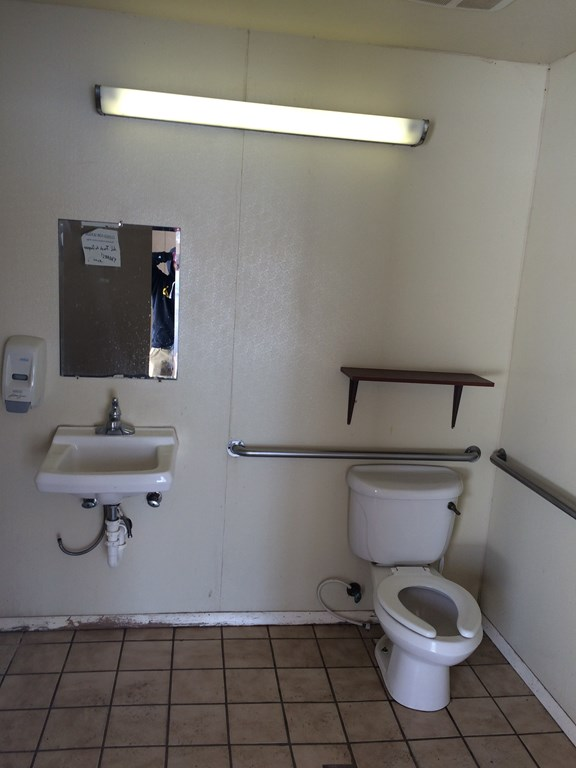dispenser: (1, 335, 46, 413)
faucet: (95, 397, 135, 435)
restroom_assist_bar: (490, 448, 576, 521), (226, 440, 481, 463)
sink: (36, 426, 179, 505)
toilet: (369, 563, 483, 711)
toilet_handle: (447, 502, 461, 516)
